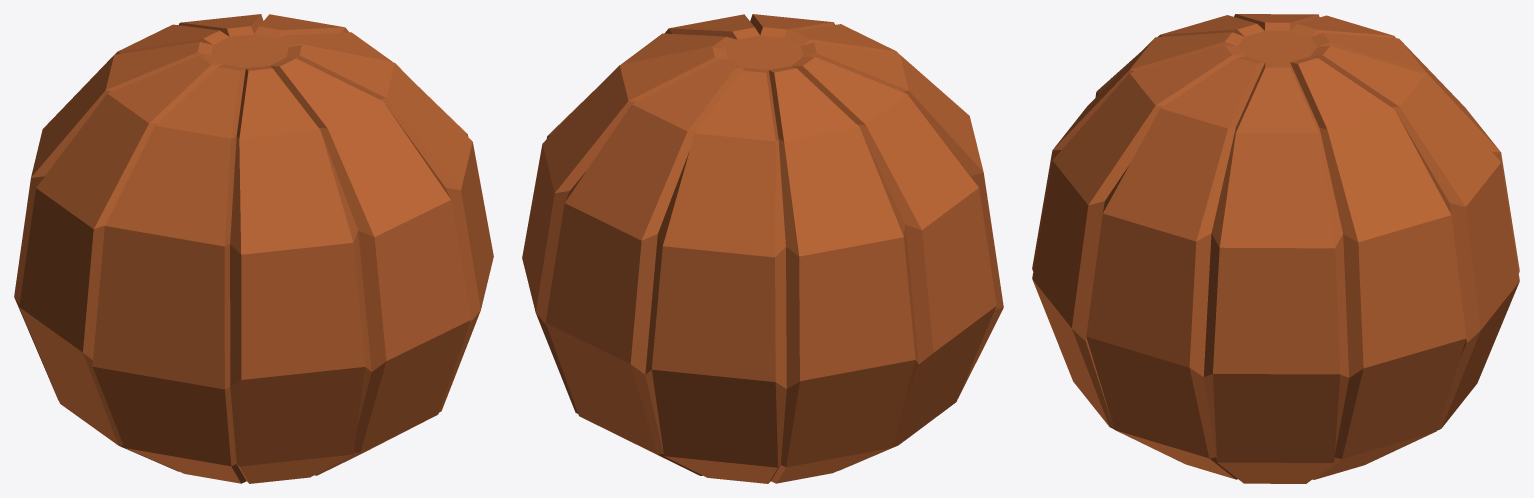
The model's file is Pumpking.fbx.
3 renders of one model, left to right at view 1: azimuth 30°, elevation 25°; view 2: azimuth 150°, elevation 25°; view 3: azimuth 270°, elevation 25°, orthographic.
Parts seen in each view (by area): view 1: Pumpking; view 2: Pumpking; view 3: Pumpking.
Part boxes in pixels (x1,y1,x2,y2): Pumpking: [14, 14, 493, 483]; Pumpking: [522, 14, 1003, 483]; Pumpking: [1032, 14, 1519, 483].
Bounding box in the file's own units: 10.12 × 9.34 × 10.46.
